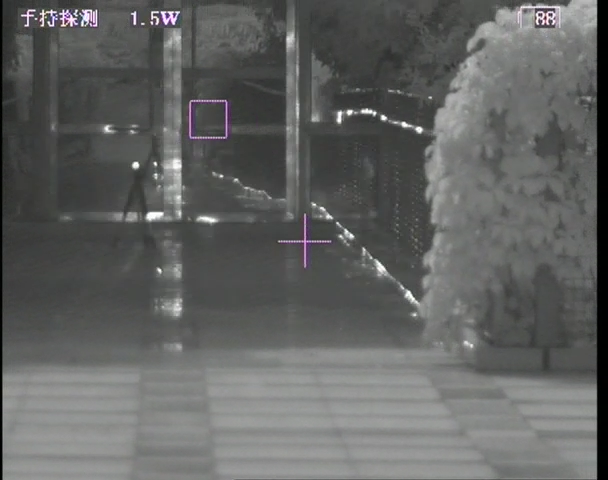my: (129, 160, 141, 172)
